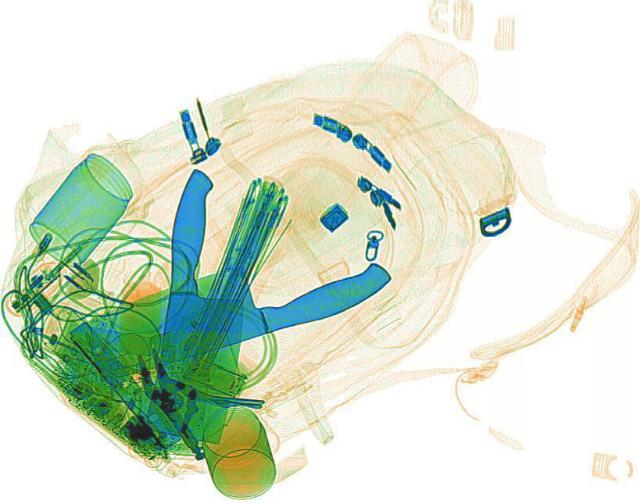Knife: (62, 221, 400, 389), (136, 167, 270, 442)
